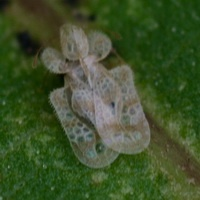insect: (41, 24, 149, 167)
